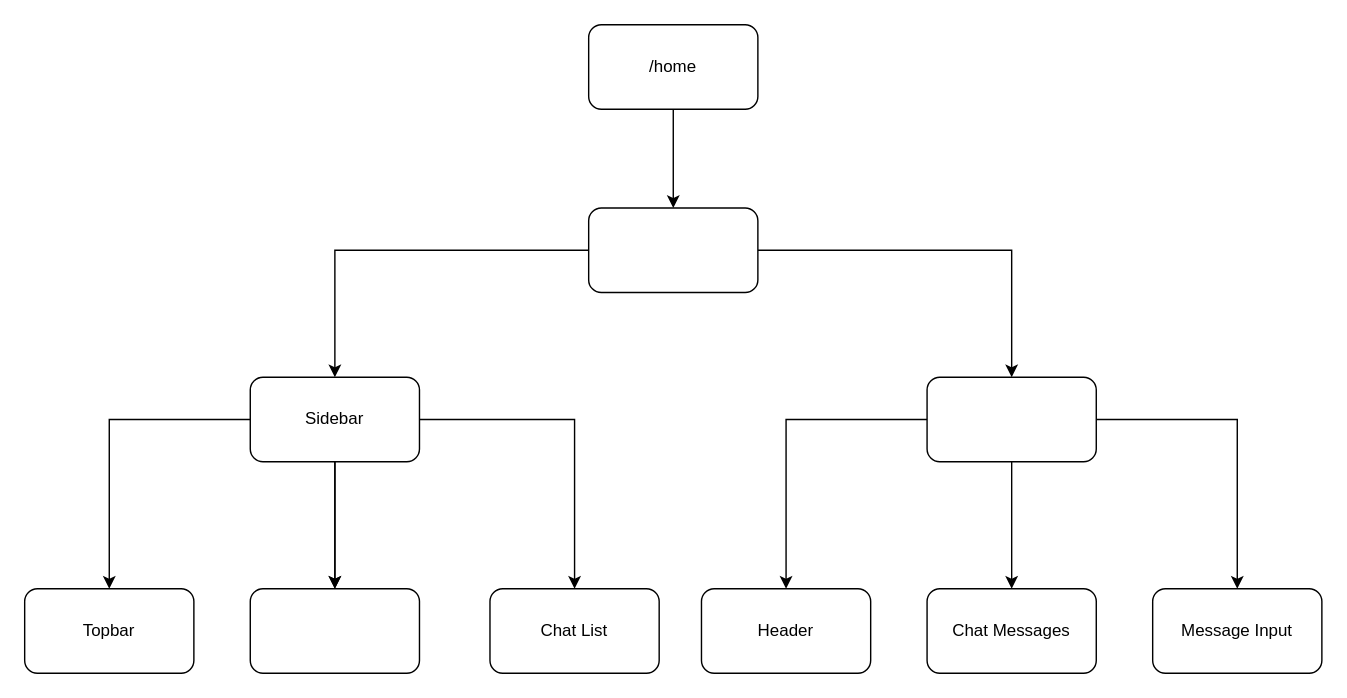
The diagram is 1347 pixels wide and 698 high, and some of its shapes have lost their labels. The centre of each missing label's shape, as x and y in pixels:
homePage: point (672, 250)
Messaging Panel: point (1011, 419)
Search Bar: point (334, 630)
